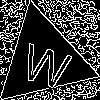W: (18, 34, 76, 91)
